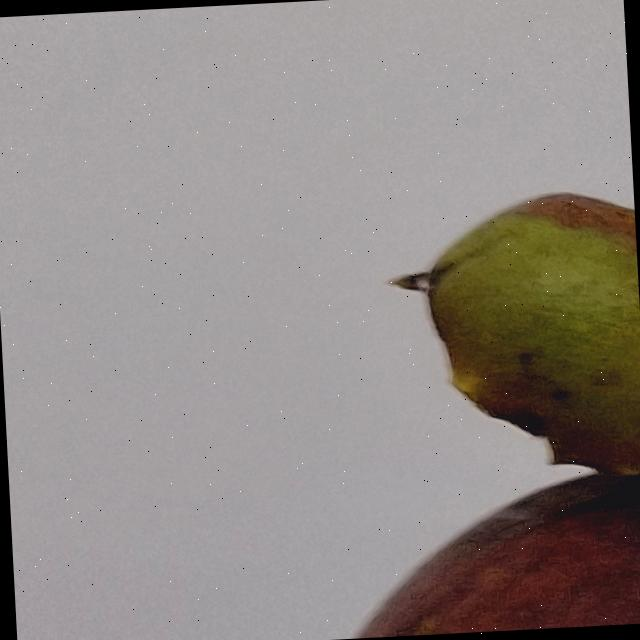mangosteen: (78, 83, 640, 640)
